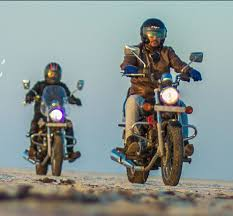helmet: (138, 14, 170, 50)
